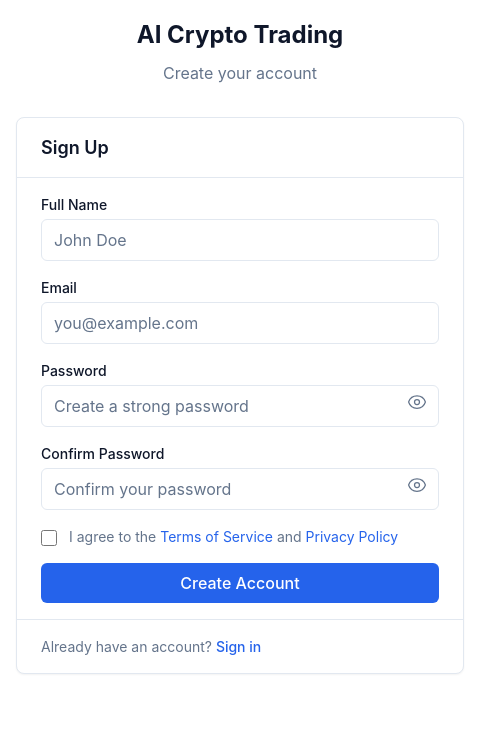
Scenario: Signup Page › Form Validation › should show error when name is too short
In the field labelled "Full Name": (240, 240) left=41, top=218, right=439, bottom=260, type "A"
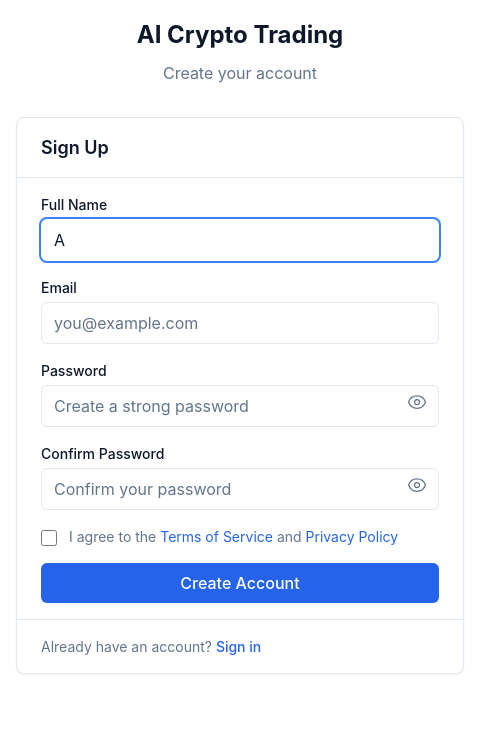
Click the button "Create Account": (240, 582) left=41, top=562, right=439, bottom=602
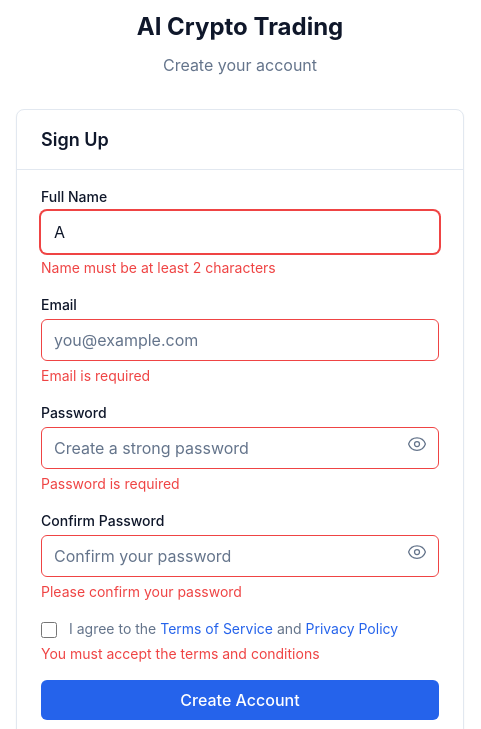
Check: the text "Name must be at least 2 characters" is shown, box left=41, top=259, right=276, bottom=276
